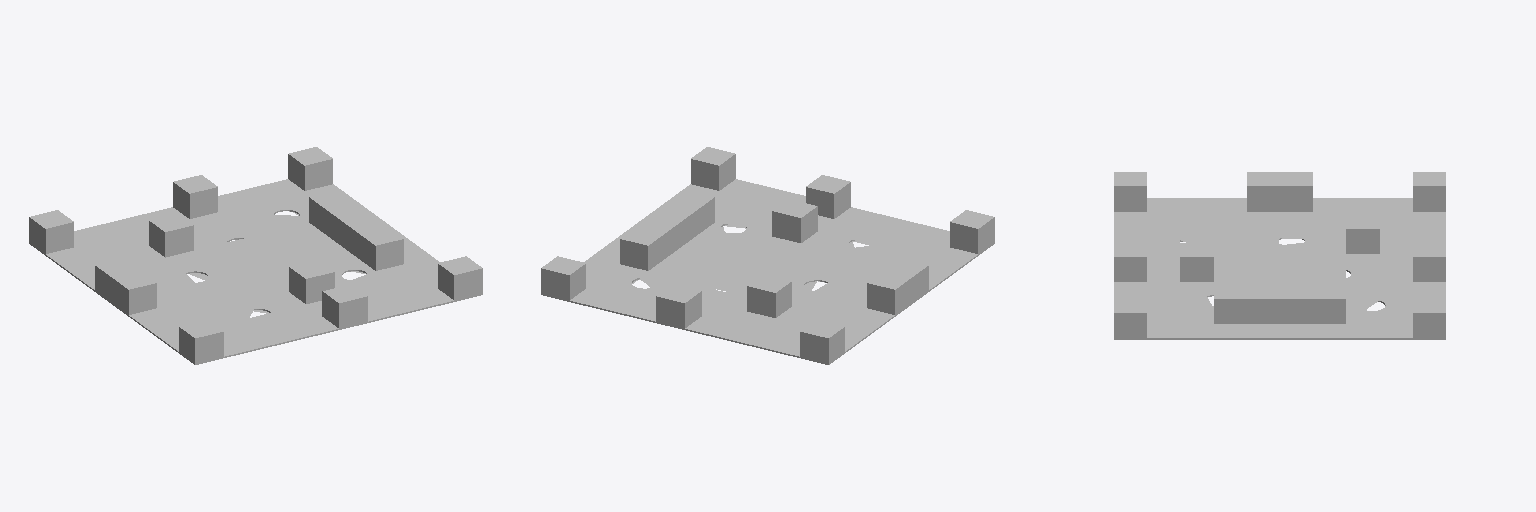
The model's file is Nivel1.obj.
The picture shows the model from 3 angles: view 1: azimuth 30°, elevation 25°; view 2: azimuth 150°, elevation 25°; view 3: azimuth 270°, elevation 25°; orthographic projection.
Parts seen in each view (by area): view 1: Cube; view 2: Cube; view 3: Cube.
Part boxes in pixels (x1,y1,x2,y2): Cube: (29, 147, 482, 364); Cube: (541, 147, 994, 364); Cube: (1114, 172, 1445, 339).
Bounding box in the file's own units: 20 × 1.78 × 20.